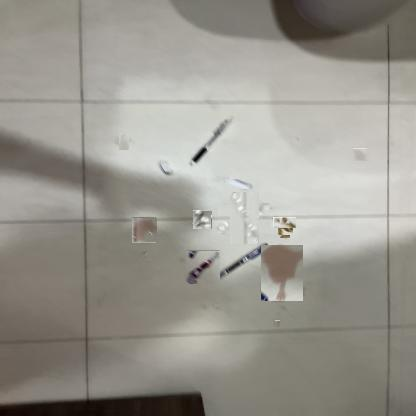dirty: (223, 198, 265, 238), (186, 250, 220, 284), (193, 211, 212, 229), (225, 179, 253, 189), (273, 217, 296, 228), (279, 224, 291, 236), (243, 230, 250, 242)
liquid: (261, 245, 303, 301), (132, 218, 157, 242), (117, 134, 131, 148), (353, 148, 368, 161), (138, 251, 148, 261), (274, 320, 280, 327), (214, 304, 220, 310), (280, 305, 286, 311)
